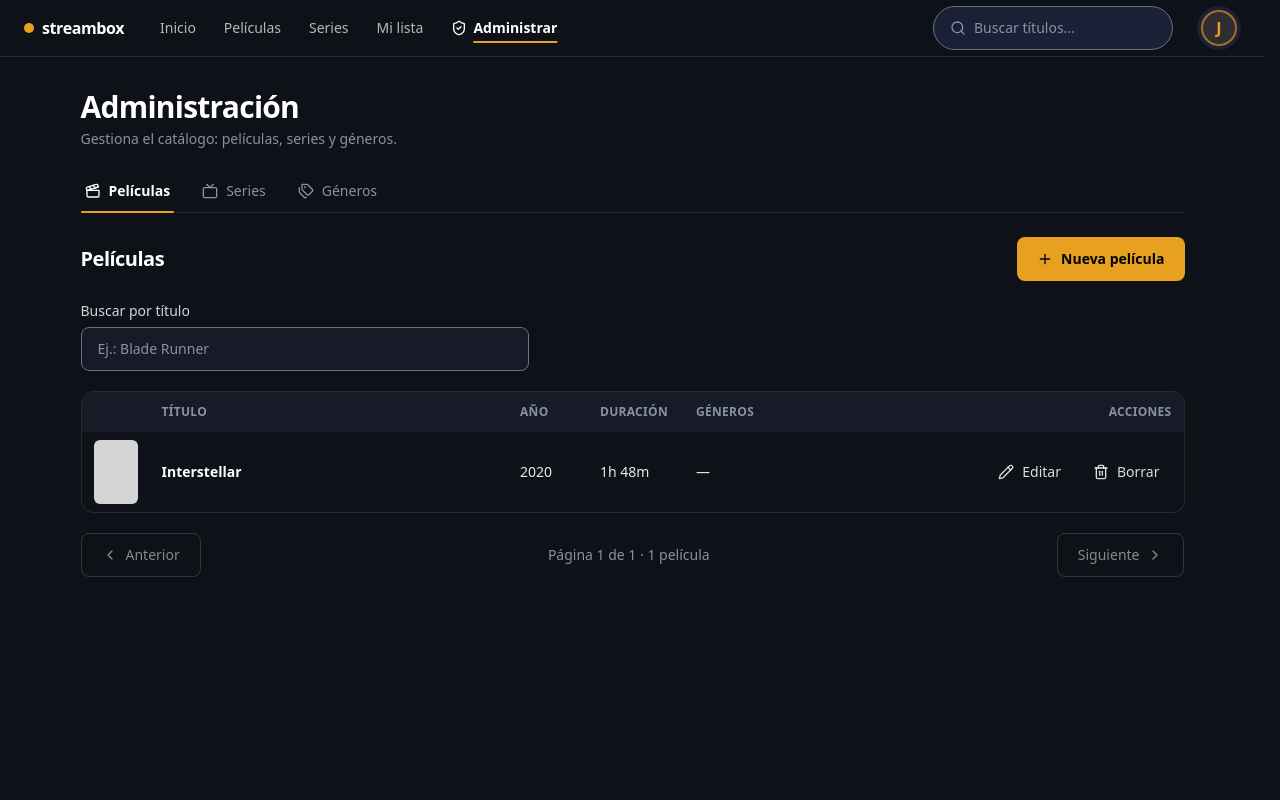
Test case: Rutas del panel de administración › las tres secciones van en orden (Películas, Series, Géneros) y «Series» lleva al listado de series
Check: the heading "Administración" is shown, box [80, 86, 299, 127]
Click the link "Series" below "Administración" at (234, 190), box [202, 181, 266, 200]
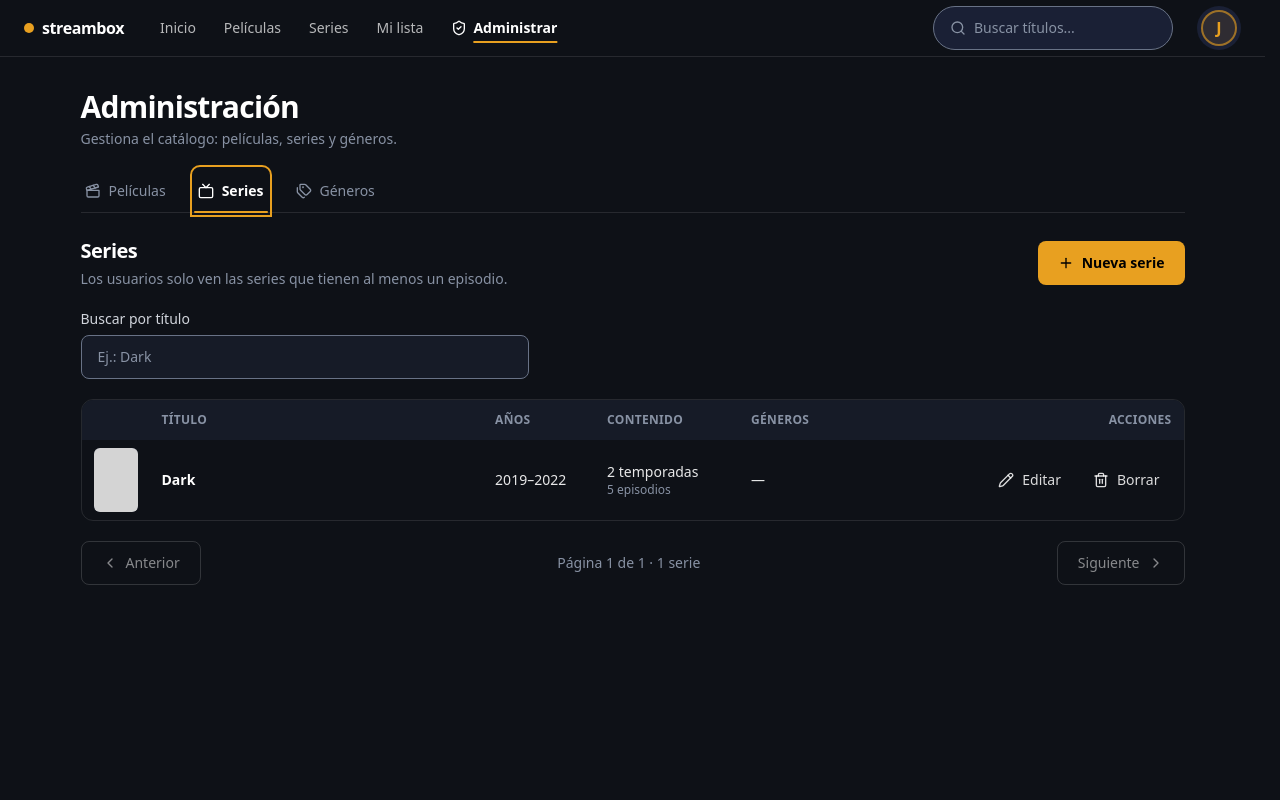
Check: the row "Dark 2019–2022 2 temporadas 5 episodios — Editar Borrar" is shown, box [82, 440, 1184, 520]
